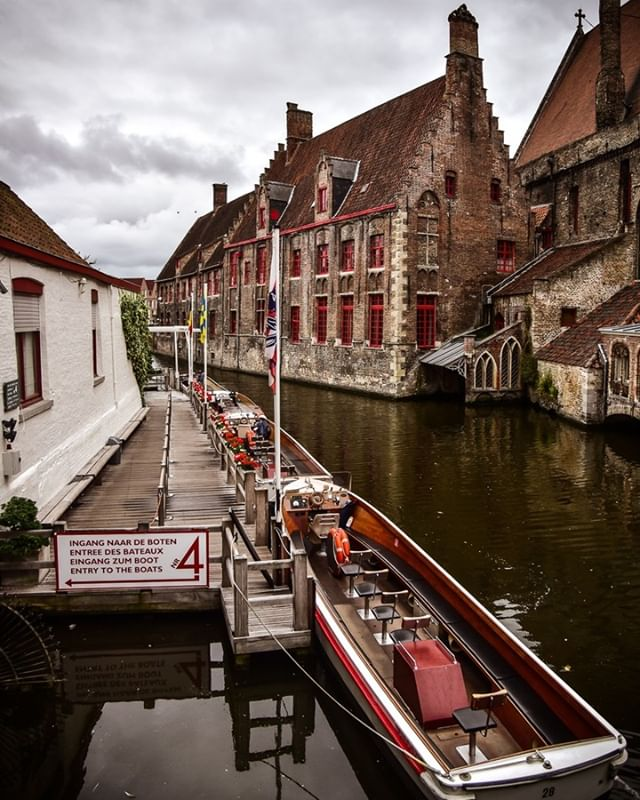boat: (271, 482, 640, 797), (203, 399, 337, 493)
building: (256, 53, 525, 405), (1, 199, 154, 596), (514, 1, 640, 398), (142, 174, 237, 368)
river: (214, 364, 640, 750)
sky: (26, 1, 437, 194)
